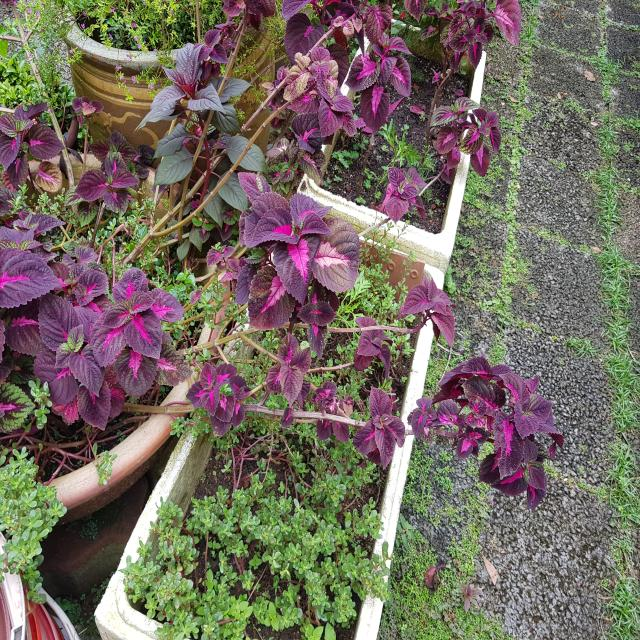Coleus: (228, 184, 380, 334), (428, 352, 560, 510), (272, 4, 416, 140), (142, 49, 264, 190), (18, 274, 116, 422), (82, 254, 184, 396), (0, 210, 67, 383), (0, 90, 70, 210), (420, 90, 506, 172), (72, 140, 142, 226), (186, 357, 256, 437), (372, 148, 436, 228), (396, 269, 461, 341), (354, 383, 406, 467), (266, 340, 312, 408), (354, 314, 390, 374), (408, 398, 436, 436), (316, 417, 350, 443), (316, 383, 338, 409)
